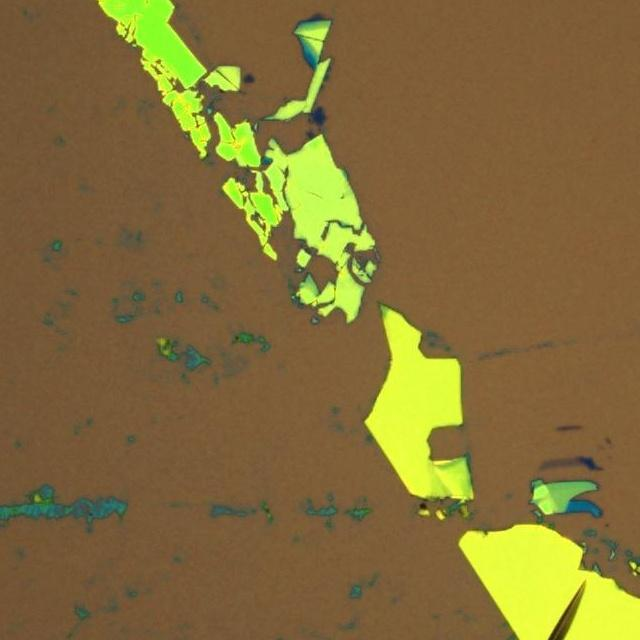monolayer-eWW4: (536, 456, 584, 472)
